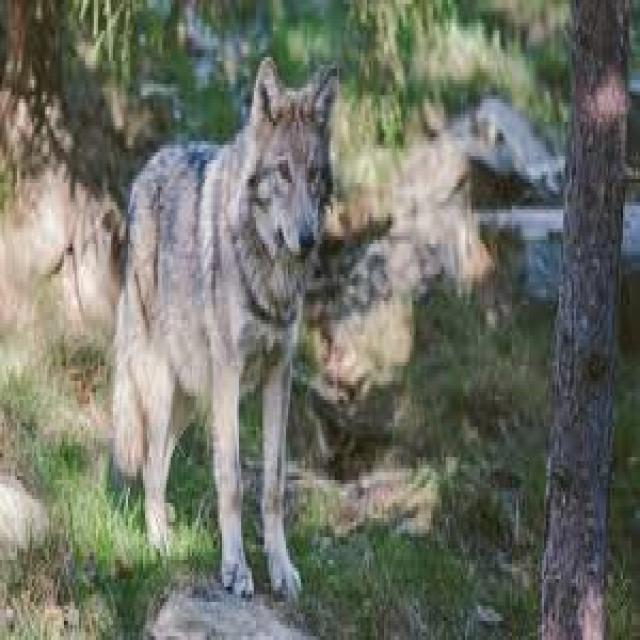wolf: (113, 57, 337, 594)
